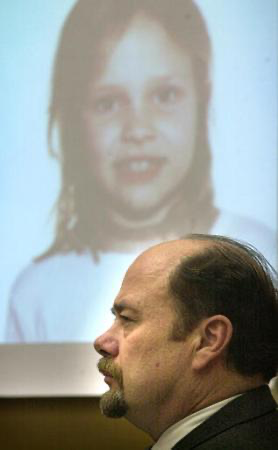Face: (65, 19, 199, 220), (86, 240, 214, 437)
